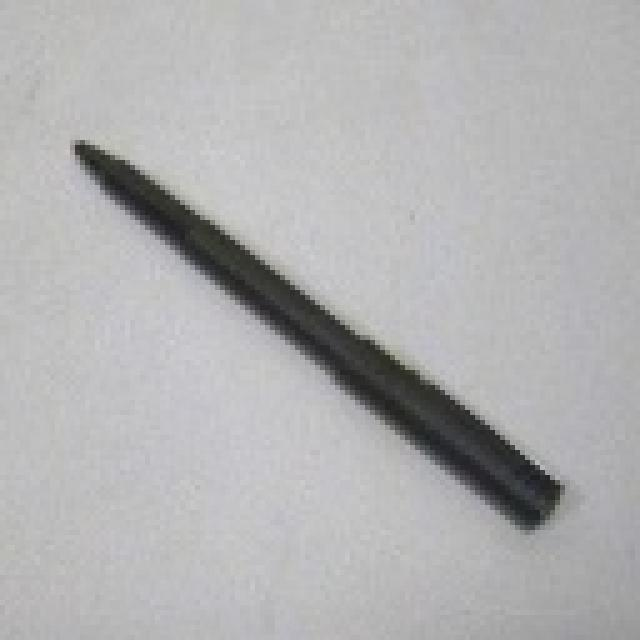pen: (59, 129, 574, 544)
